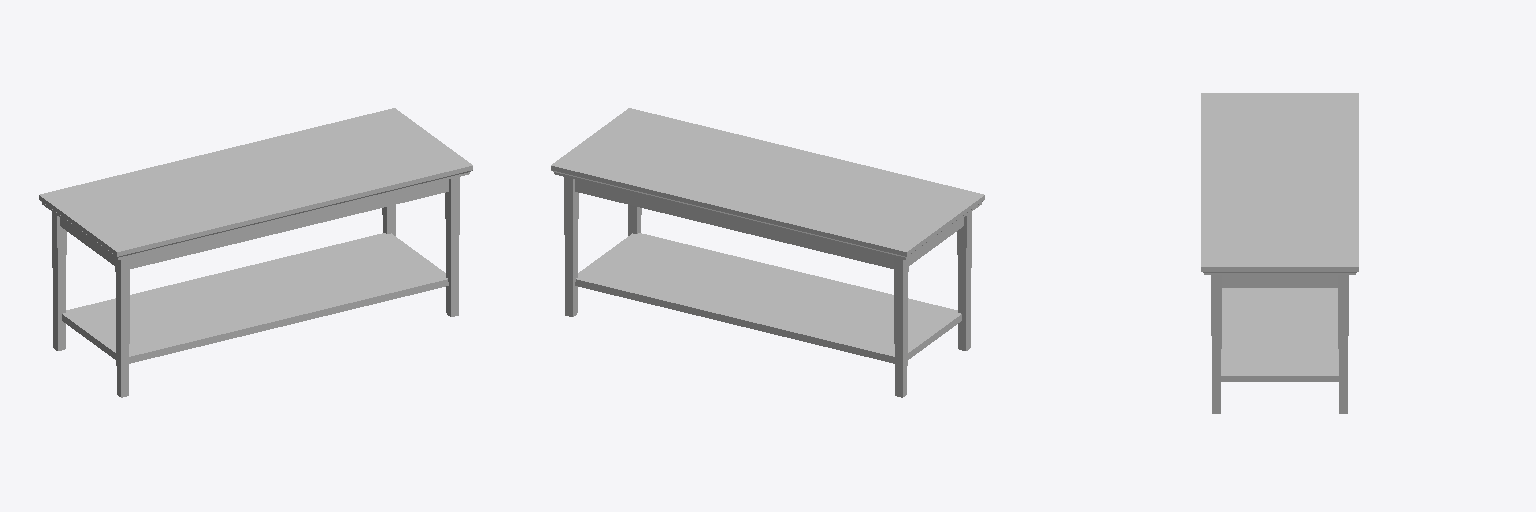
Rendered from coffee_table_1_3.obj.
3 views of the same model, side by side, from view 1: azimuth 30°, elevation 25°; view 2: azimuth 150°, elevation 25°; view 3: azimuth 270°, elevation 25° (orthographic).
Parts seen in each view (by area): view 1: coffee_table_1_3; view 2: coffee_table_1_3; view 3: coffee_table_1_3.
Boxes of the visible parts, x1,y1,x2,y2 form: coffee_table_1_3: [39, 108, 472, 397]; coffee_table_1_3: [551, 108, 984, 397]; coffee_table_1_3: [1201, 93, 1358, 413].
Size of the model in its own units: 1.62 by 0.66 by 0.62.